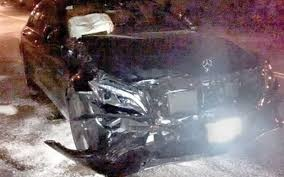Broken-glass: (89, 78, 143, 118)
Smashed: (44, 83, 167, 175), (63, 35, 107, 66)
